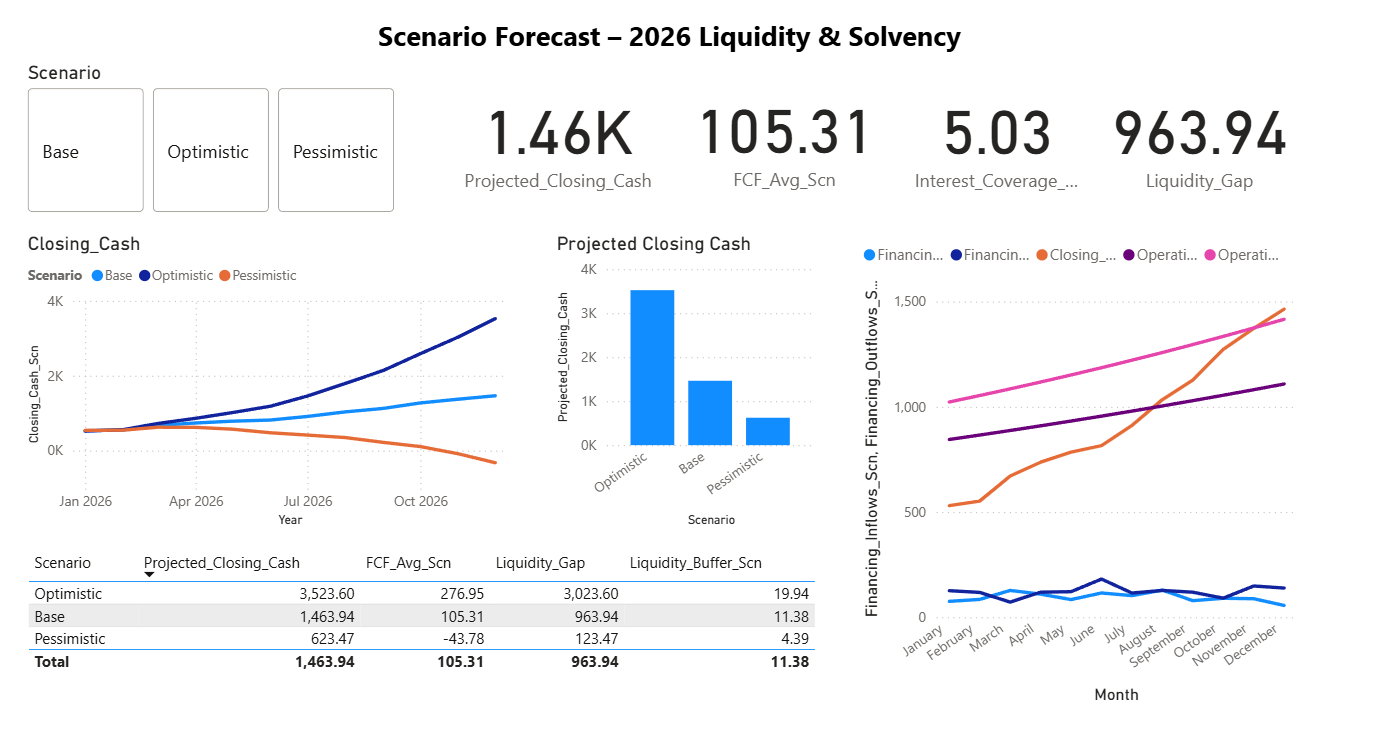

What the dashboard file says about the page in this screenshot:
{"tool":"powerbi","page":{"name":"Scenario Forecast","canvas":[1280,720],"ordinal":2},"visuals":[{"type":"textbox","box":[57.6,12.4,1142.1,59.4],"z":0},{"type":"card","fields":{"Values":["Forecasts.Liquidity_Gap"]},"box":[1010.8,70.9,181.8,136.6],"z":1000},{"type":"card","fields":{"Values":["Forecasts.FCF_Avg_Scn"]},"box":[640.2,70,187.1,136.6],"z":2000},{"type":"card","fields":{"Values":["Forecasts.Interest_Coverage_Scn"]},"box":[840.6,70.9,162.3,136.6],"z":3000},{"type":"advancedSlicerVisual","fields":{"Values":["Scenarios_Forecast.Scenario"]},"box":[57.6,71.8,337.8,139.2],"z":4000},{"type":"card","fields":{"Values":["Forecasts.Projected_Closing_Cash"]},"box":[437.1,70,191.5,137.4],"z":6000},{"type":"clusteredColumnChart","title":"Projected Closing Cash","fields":{"Y":["Forecasts.Projected_Closing_Cash"],"Category":["Scenarios_Forecast.Scenario"]},"box":[526.7,223.4,239.4,266],"z":7000},{"type":"lineChart","title":"Closing_Cash","fields":{"Category":["Calendar.Date.Variation.Date Hierarchy.Year","Calendar.Date.Variation.Date Hierarchy.Month"],"Y":["Forecasts.Closing_Cash_Scn"],"Series":["Scenarios_Forecast.Scenario"]},"box":[57.6,223.4,448.7,266],"z":8000},{"type":"tableEx","fields":{"Values":["Scenarios_Forecast.Scenario","Forecasts.Projected_Closing_Cash","Forecasts.FCF_Avg_Scn","Forecasts.Liquidity_Gap","Forecasts.Liquidity_Buffer_Scn"]},"box":[57.6,501,708.5,145.4],"z":8001},{"type":"lineChart","fields":{"Category":["Calendar.Date.Variation.Date Hierarchy.Year","Calendar.Date.Variation.Date Hierarchy.Month"],"Y":["Forecasts.Financing_Inflows_Scn","Forecasts.Financing_Outflows_Scn","Forecasts.Closing_Cash_Scn","Forecasts.Operating_Outflows_Scn","Forecasts.Operating_Inflows_Scn"]},"box":[798,223.4,394.6,423],"z":8002}]}

Visuals, with their boxes in screenshot pixels (x1, y1, x2, y2), scaled from the page's 1280x720 canvas onto the 1374x755 screenshot:
textbox: x1=62, y1=13, x2=1288, y2=75
card - Forecasts.Liquidity_Gap: x1=1085, y1=74, x2=1280, y2=218
card - Forecasts.FCF_Avg_Scn: x1=687, y1=73, x2=888, y2=217
card - Forecasts.Interest_Coverage_Scn: x1=902, y1=74, x2=1077, y2=218
advancedSlicerVisual - Scenarios_Forecast.Scenario: x1=62, y1=75, x2=424, y2=221
card - Forecasts.Projected_Closing_Cash: x1=469, y1=73, x2=675, y2=217
"Projected Closing Cash" clusteredColumnChart: x1=565, y1=234, x2=822, y2=513
"Closing_Cash" lineChart: x1=62, y1=234, x2=543, y2=513
tableEx - Scenarios_Forecast.Scenario x Forecasts.Projected_Closing_Cash: x1=62, y1=525, x2=822, y2=678
lineChart - Calendar.Date.Variation.Date Hierarchy.Year x Calendar.Date.Variation.Date Hierarchy.Month: x1=857, y1=234, x2=1280, y2=678
